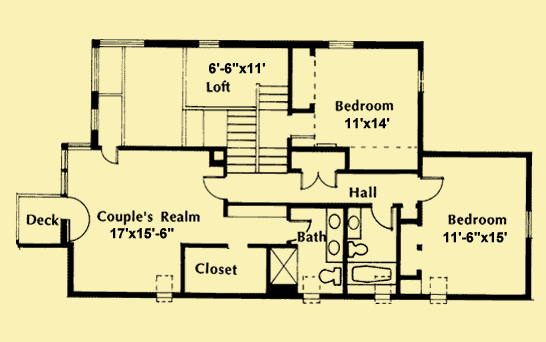door: (417, 176, 447, 204), (299, 170, 337, 192), (367, 201, 395, 230), (202, 174, 225, 203), (101, 145, 121, 167)
large_sink: (315, 267, 342, 287), (346, 241, 372, 260)
small_sink: (324, 209, 345, 263), (346, 208, 363, 240)
stairs: (256, 82, 288, 175), (224, 106, 257, 175)
tub: (346, 261, 397, 286)
window: (99, 37, 146, 49), (89, 48, 101, 91), (60, 149, 68, 194), (198, 38, 222, 51), (324, 41, 355, 50), (90, 106, 101, 131)
